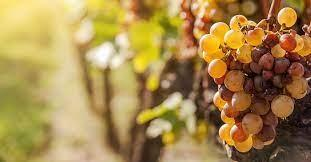Grape Rotten: (199, 6, 310, 154)
